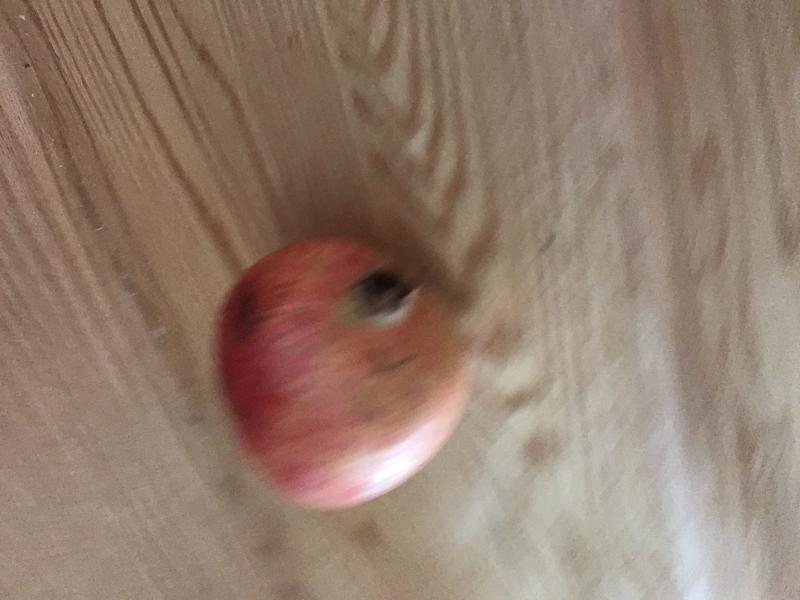pomegranate: (211, 228, 487, 516)
